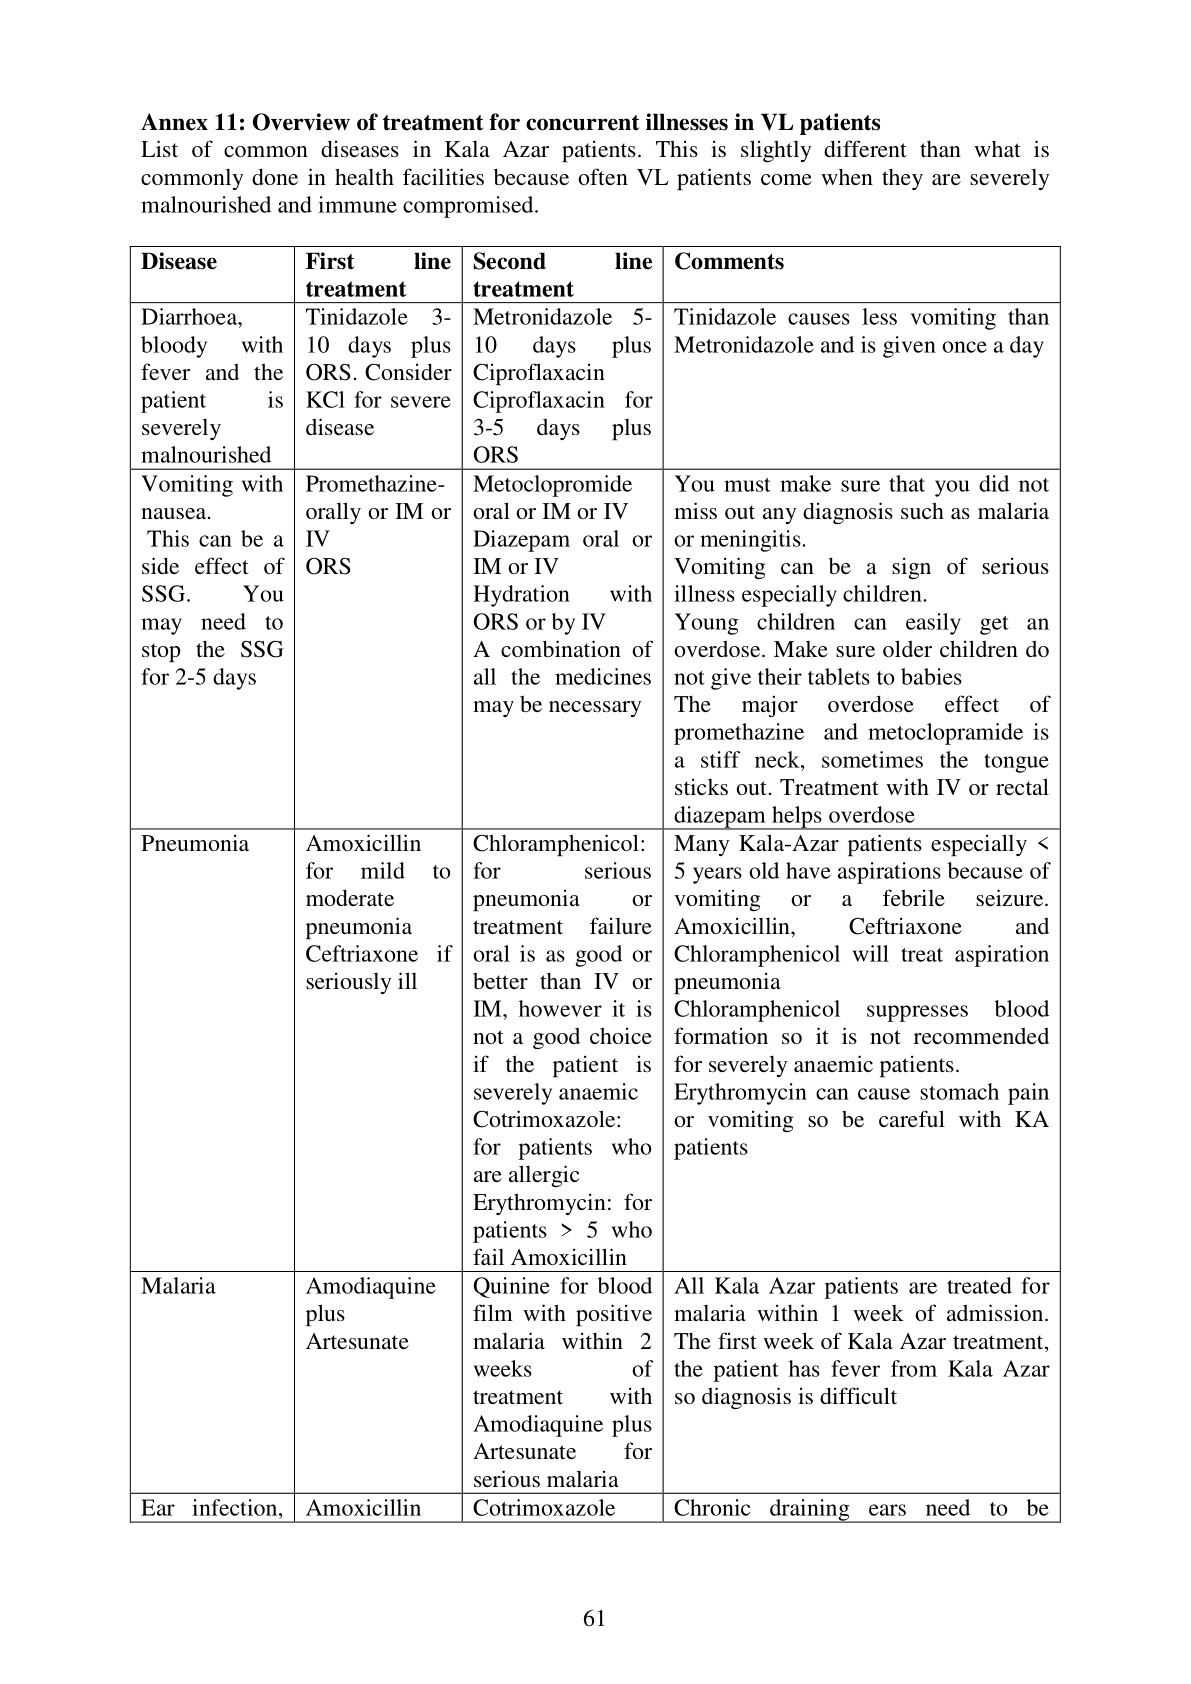full_lined: (128, 245, 1061, 1524)
